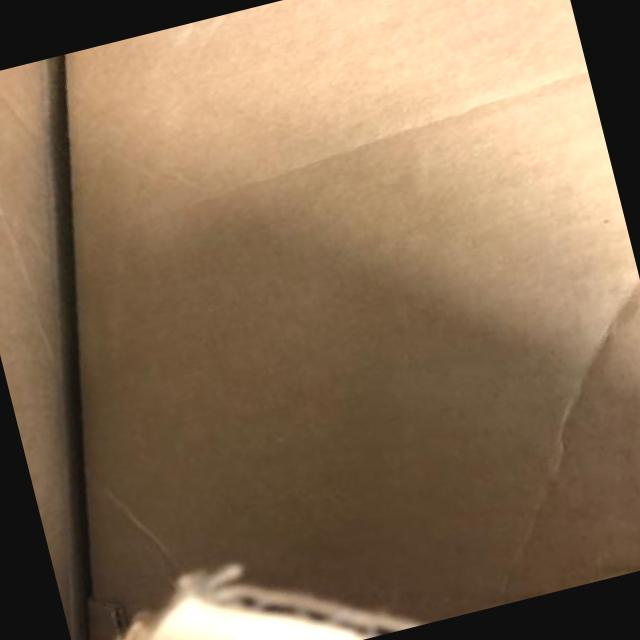cardboard: (66, 0, 639, 622), (0, 58, 85, 639), (123, 567, 417, 639)
